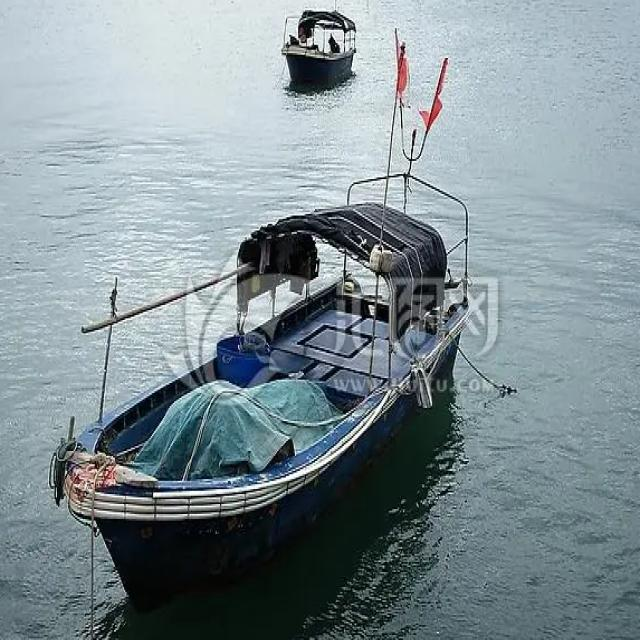fishing boat: (49, 165, 463, 599), (279, 2, 356, 90)
